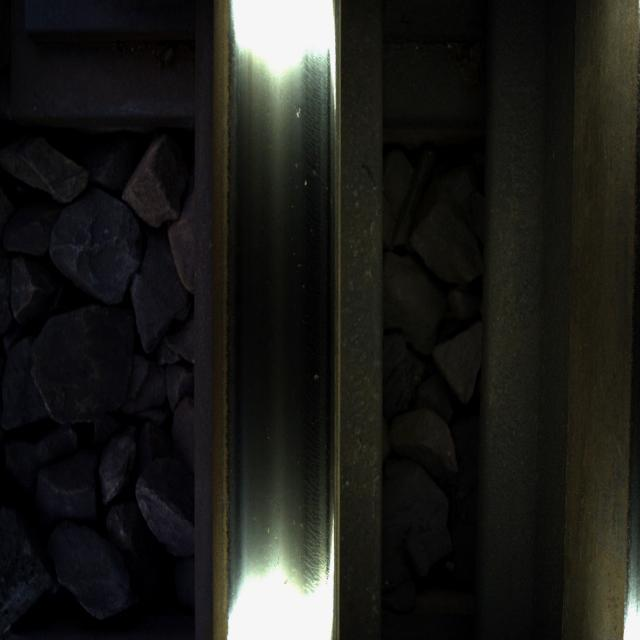break: (240, 47, 317, 640)
